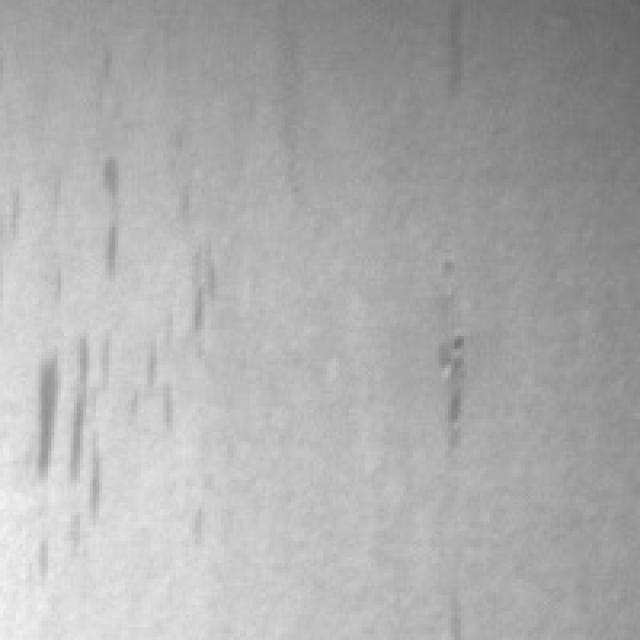inclusion: (16, 320, 115, 528), (422, 307, 483, 480), (83, 134, 138, 298), (426, 0, 474, 106)
